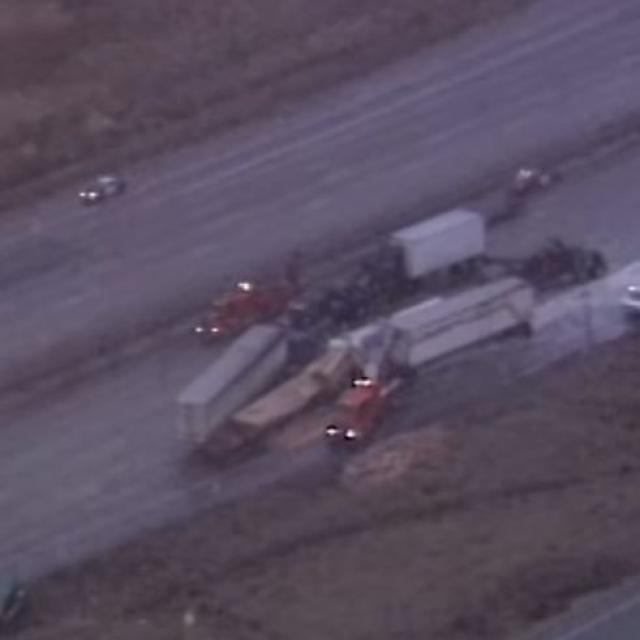traffic_incident: (167, 228, 523, 459)
